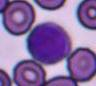L: (26, 22, 72, 64)
